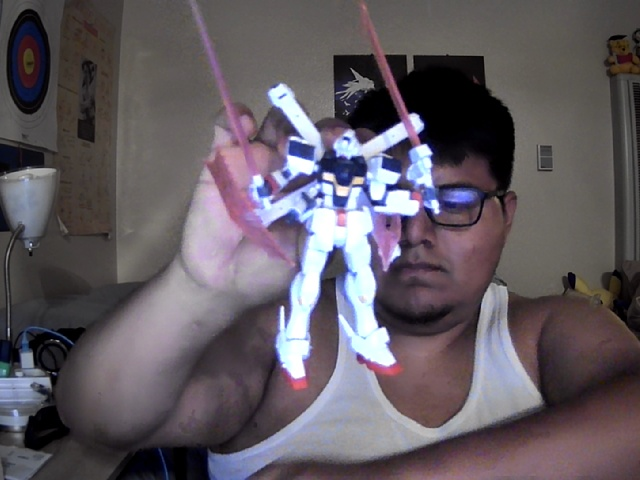Crossbones: (187, 1, 440, 389)
